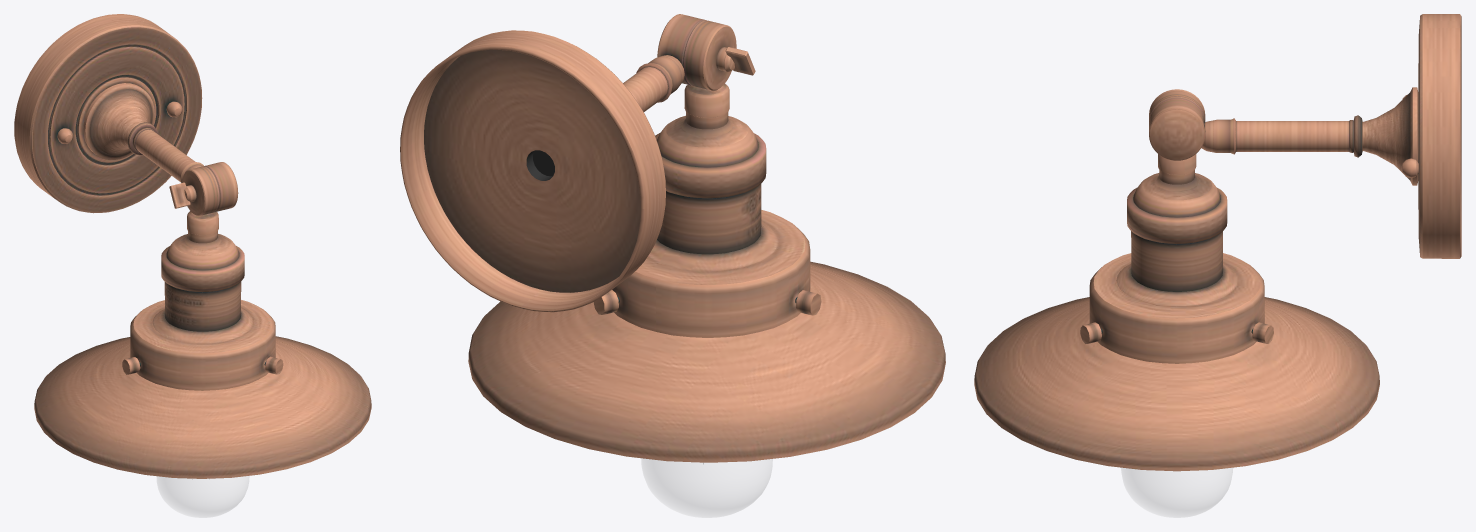
File: barnlamp.glb
The picture shows the model from 3 angles, left to right: view 1: azimuth 30°, elevation 25°; view 2: azimuth 150°, elevation 25°; view 3: azimuth 270°, elevation 25°; orthographic projection. The views are drawn at different scales.
Visible parts, largest first — view 1: Lamp Metal, Lamp Glass; view 2: Lamp Metal, Lamp Glass; view 3: Lamp Metal, Lamp Glass.
Part boxes in pixels (x1=…): Lamp Metal: x1=14, y1=14, x2=371, y2=479; Lamp Glass: x1=157, y1=476, x2=249, y2=517; Lamp Metal: x1=400, y1=14, x2=945, y2=464; Lamp Glass: x1=641, y1=458, x2=772, y2=517; Lamp Metal: x1=974, y1=14, x2=1461, y2=471; Lamp Glass: x1=1121, y1=468, x2=1232, y2=517.
Bounding box in the file's own units: 0.1908 × 0.2552 × 0.2265.
Materials: 3 (1 with a texture image).
